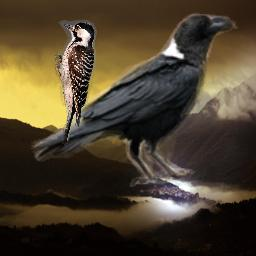Crow: (31, 7, 238, 187)
Woodpecker: (55, 19, 97, 147)
